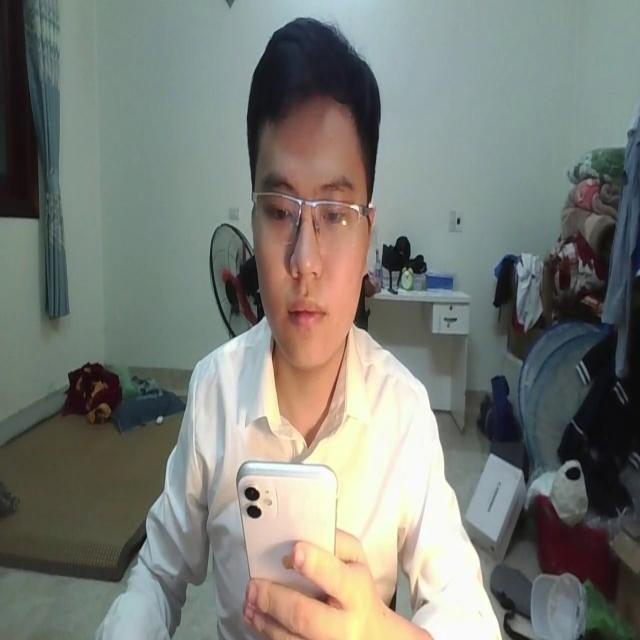phone: (236, 448, 342, 616)
student: (103, 13, 505, 640)
